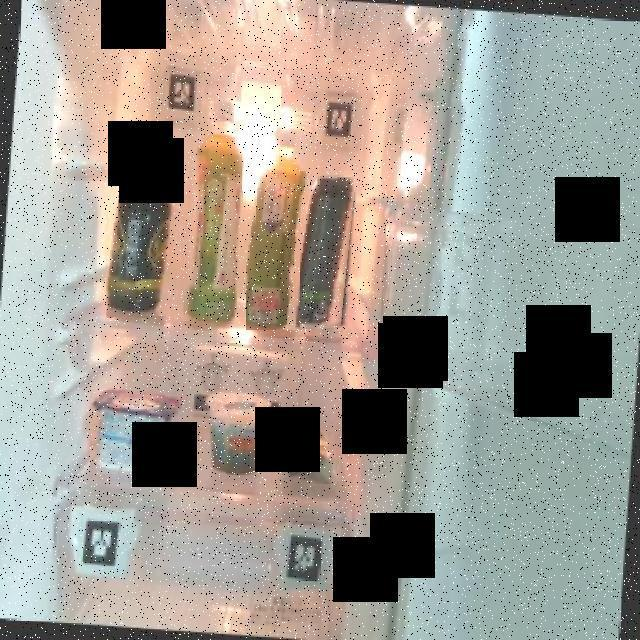bottle: (182, 90, 248, 324), (246, 119, 312, 330)
can: (300, 172, 357, 332)
coffee: (106, 128, 182, 318)
pudding: (201, 390, 267, 478)
rice_ball: (274, 422, 338, 484)
yogurt: (90, 380, 182, 474)
